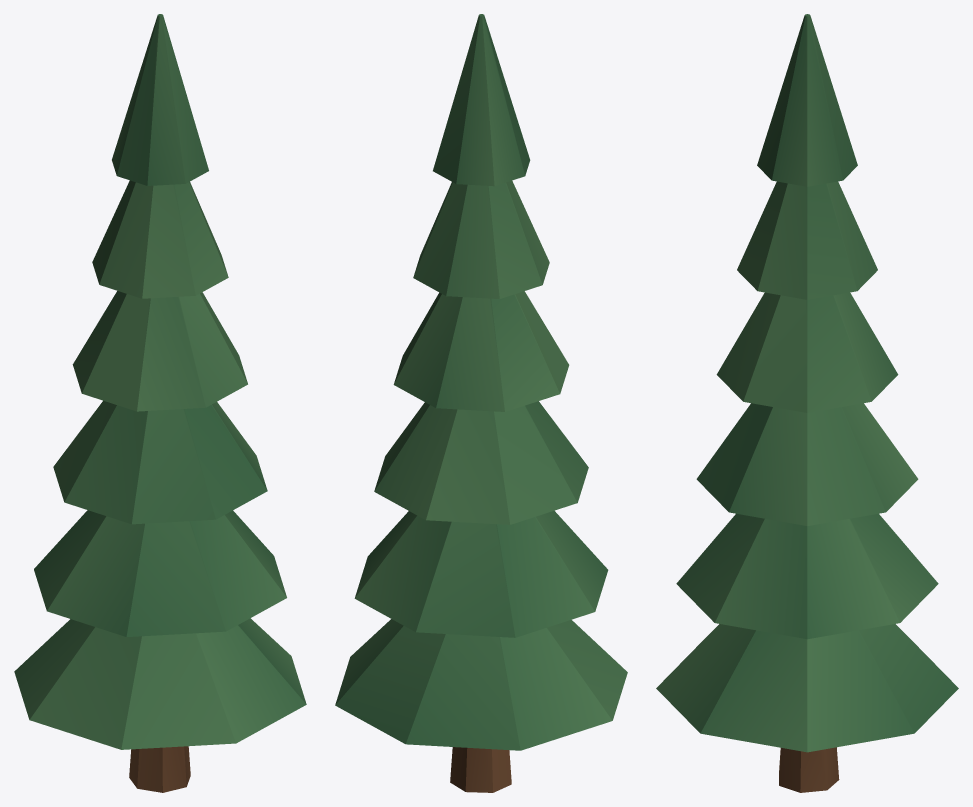
File: forest_fir_slim.glb
3 renders of one model, left to right at view 1: azimuth 30°, elevation 25°; view 2: azimuth 150°, elevation 25°; view 3: azimuth 270°, elevation 25°, orthographic.
Parts seen in each view (by area): view 1: FirSlim; view 2: FirSlim; view 3: FirSlim.
Part boxes in pixels (x1=…): FirSlim: x1=14, y1=14, x2=306, y2=792; FirSlim: x1=335, y1=14, x2=627, y2=792; FirSlim: x1=656, y1=14, x2=958, y2=792.
Bounding box in the file's own units: 2.1 × 5.85 × 2.1.
